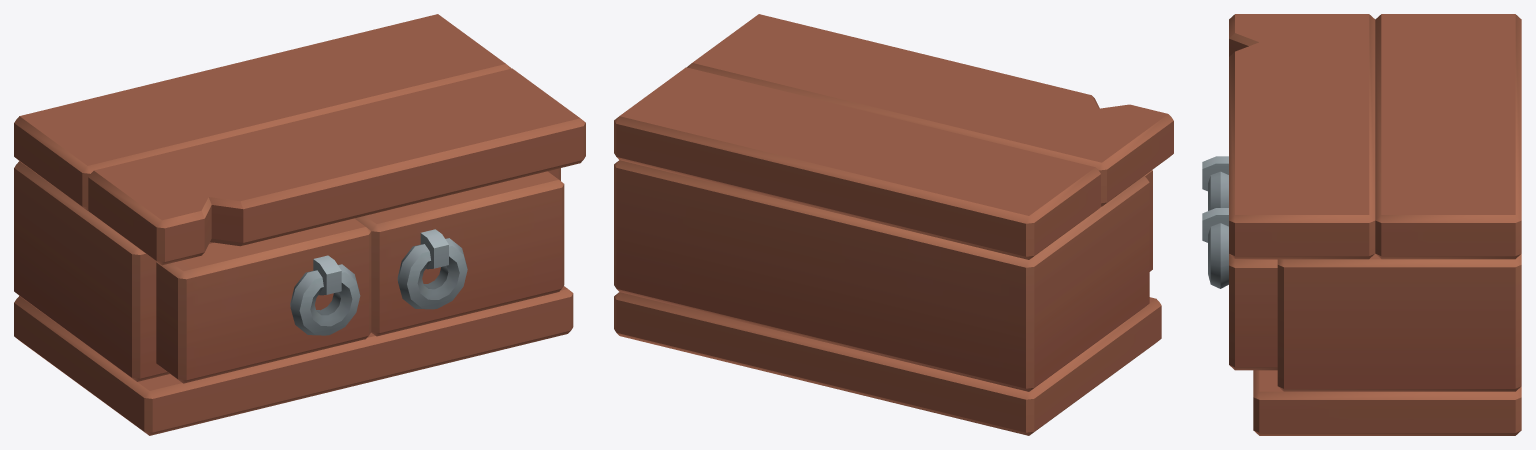
The model's file is bar_straight_c.glb.
3 views of the same model, side by side, from view 1: azimuth 30°, elevation 25°; view 2: azimuth 150°, elevation 25°; view 3: azimuth 270°, elevation 25° (orthographic). The views are drawn at different scales.
Visible parts, largest first — view 1: bar_straight_C; view 2: bar_straight_C; view 3: bar_straight_C.
Part boxes in pixels (x1,y1,x2,y2): bar_straight_C: (14, 14, 585, 435); bar_straight_C: (614, 14, 1173, 435); bar_straight_C: (1202, 14, 1521, 435).
Bounding box in the file's own units: 2 × 1 × 1.31.
1 material, 1 textured.
